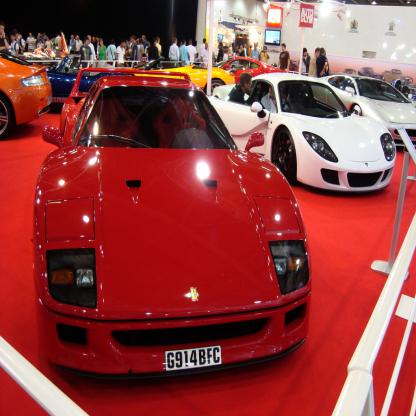Car: (0, 46, 416, 379)
